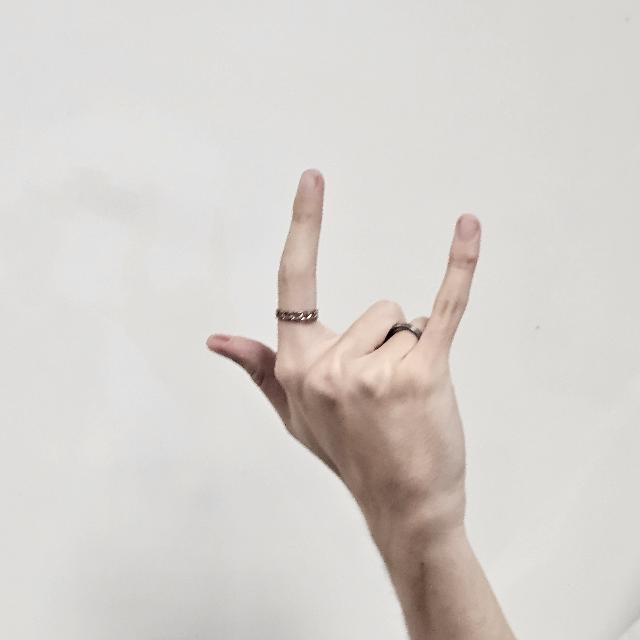Cima: (205, 165, 480, 553)
